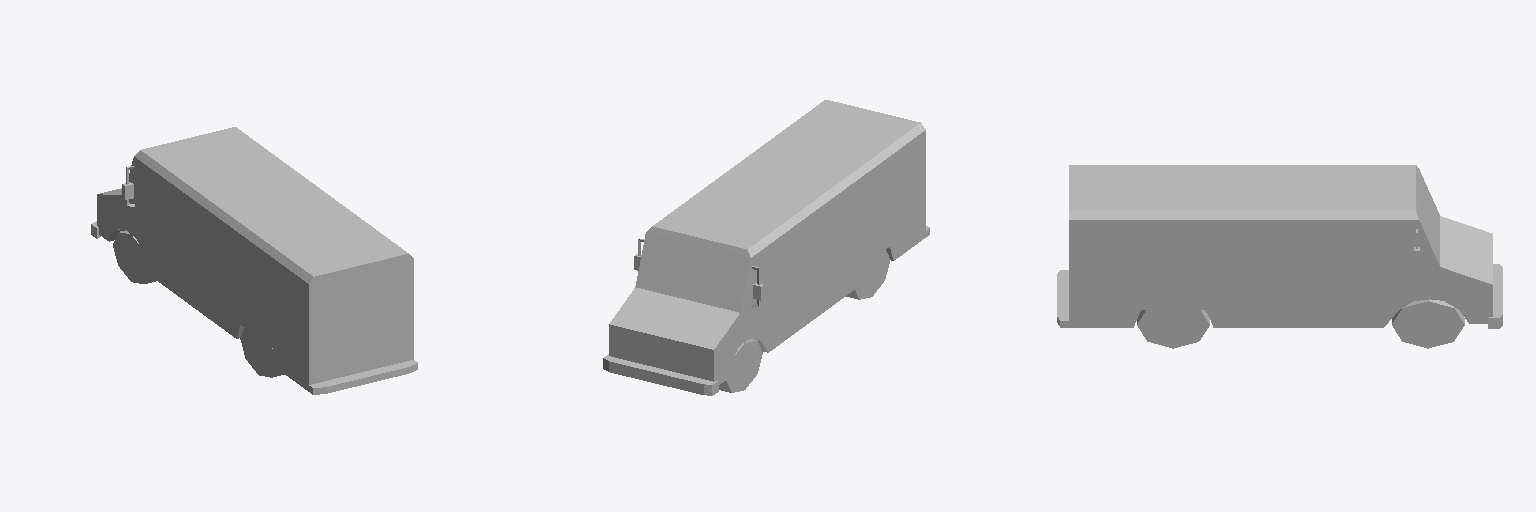
Rendered from Car8_o4.obj.
3 views of the same model, side by side, from view 1: azimuth 30°, elevation 25°; view 2: azimuth 150°, elevation 25°; view 3: azimuth 270°, elevation 25° (orthographic).
Visible parts, largest first — view 1: Car8; view 2: Car8; view 3: Car8.
Boxes of the visible parts, <box> form: Car8: <box>91,127,417,394</box>; Car8: <box>603,100,929,395</box>; Car8: <box>1057,165,1502,348</box>.
Size of the model in its own units: 1.63 by 1.66 by 4.96.